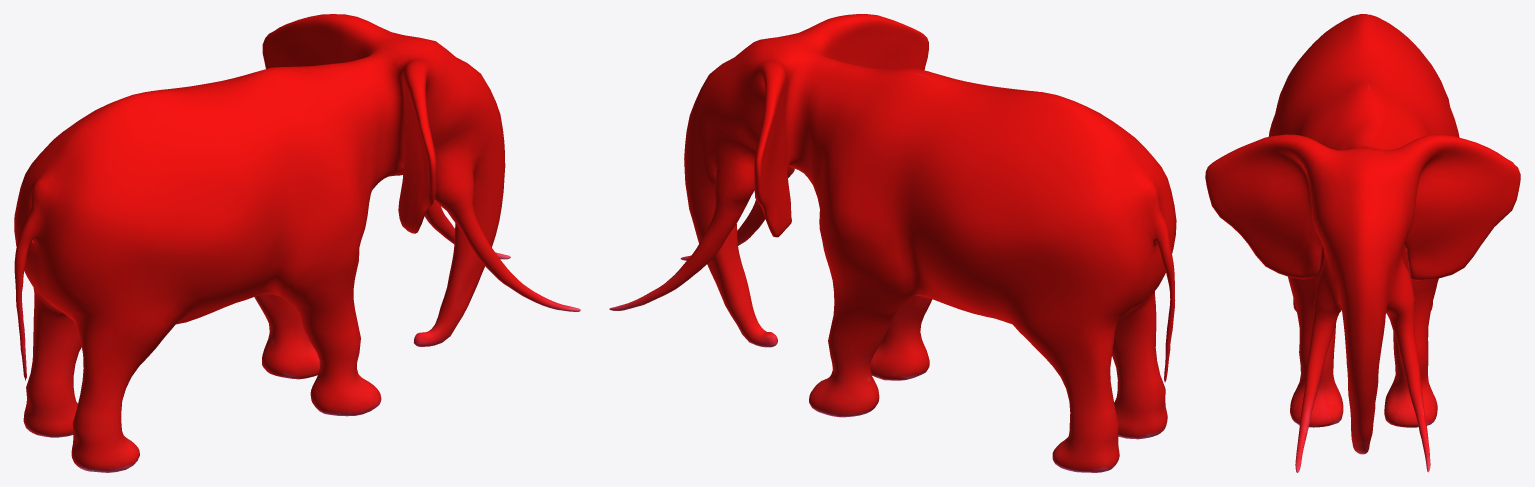
3 views of the same model, side by side, from view 1: azimuth 30°, elevation 25°; view 2: azimuth 150°, elevation 25°; view 3: azimuth 270°, elevation 25° (orthographic). The views are drawn at different scales.
Parts seen in each view (by area): view 1: Mesh; view 2: Mesh; view 3: Mesh.
Part boxes in pixels (x1,y1,x2,y2): Mesh: (14,14,580,472); Mesh: (609,14,1176,472); Mesh: (1205,14,1520,472).
Bounding box in the file's own units: 0.8903 × 0.543 × 0.495.
Materials: 1 (1 with a texture image).
